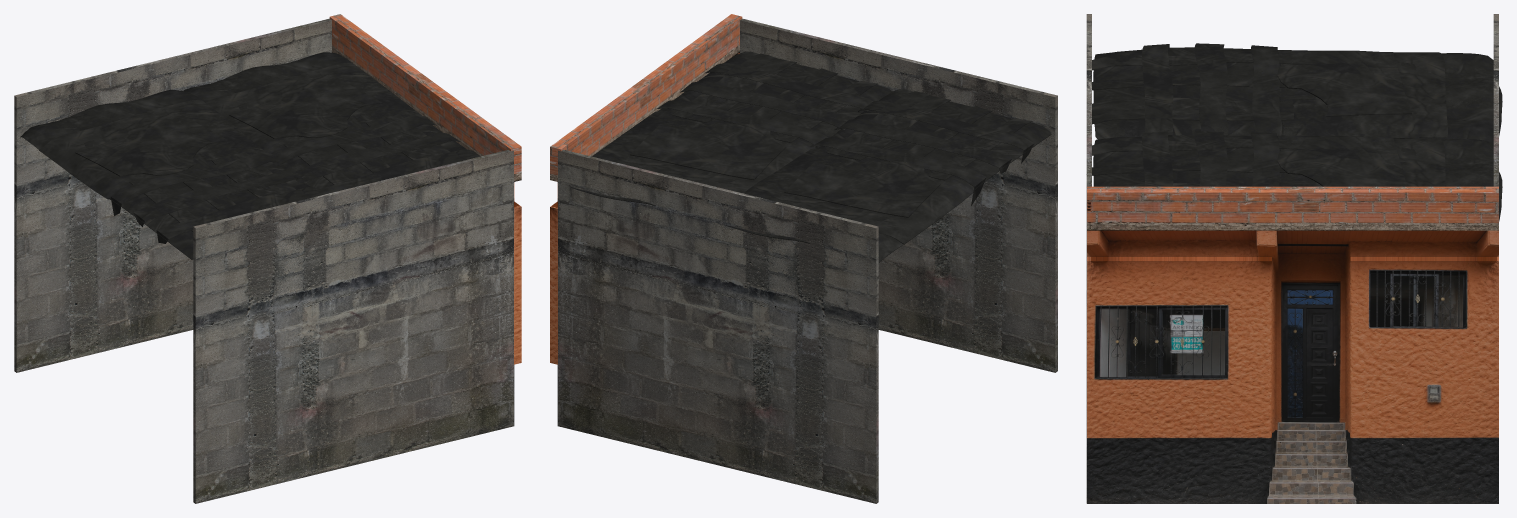
The model's file is casaA_izquierda_05.fbx.
The picture shows the model from 3 angles, left to right: view 1: azimuth 30°, elevation 25°; view 2: azimuth 150°, elevation 25°; view 3: azimuth 270°, elevation 25°; orthographic projection. The views are drawn at different scales.
Visible parts, largest first — view 1: casaA_izquierda_05B.002, casaA_izquierda_05B.003, Techo_v2.002, Techo_v2.001, casaA_izquierda_05.001; view 2: casaA_izquierda_05B.003, casaA_izquierda_05B.002, Techo_v2.002, Techo_v2.001, casaA_izquierda_05.001; view 3: casaA_izquierda_05.001, Techo_v2.002, Techo_v2.001, casaA_izquierda_05B.002, casaA_izquierda_05B.003.
Part boxes in pixels (box(x1,y1,x2,y2)): casaA_izquierda_05B.002: box(193, 149, 513, 503); casaA_izquierda_05B.003: box(14, 18, 331, 372); Techo_v2.002: box(20, 89, 324, 259); Techo_v2.001: box(183, 52, 480, 209); casaA_izquierda_05.001: box(329, 14, 521, 425); casaA_izquierda_05B.003: box(558, 149, 878, 503); casaA_izquierda_05B.002: box(740, 18, 1057, 372); Techo_v2.002: box(724, 89, 1051, 262); Techo_v2.001: box(571, 51, 892, 205); casaA_izquierda_05.001: box(550, 14, 742, 425); casaA_izquierda_05.001: box(1087, 186, 1498, 503); Techo_v2.002: box(1092, 43, 1502, 145); Techo_v2.001: box(1092, 129, 1502, 221); casaA_izquierda_05B.002: box(1086, 14, 1091, 503); casaA_izquierda_05B.003: box(1493, 14, 1498, 186).
Bounding box in the file's own units: 517 × 417 × 498.
